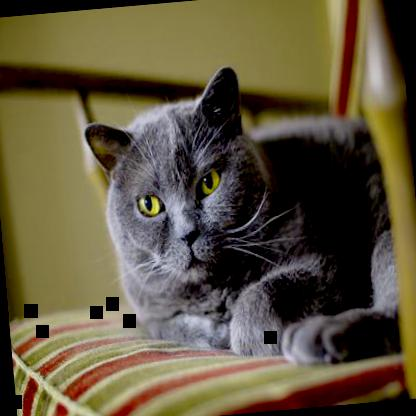cat: (78, 50, 415, 389)
